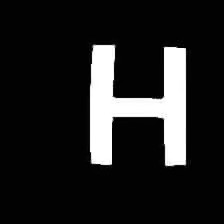LTR_H: (74, 28, 193, 177)
